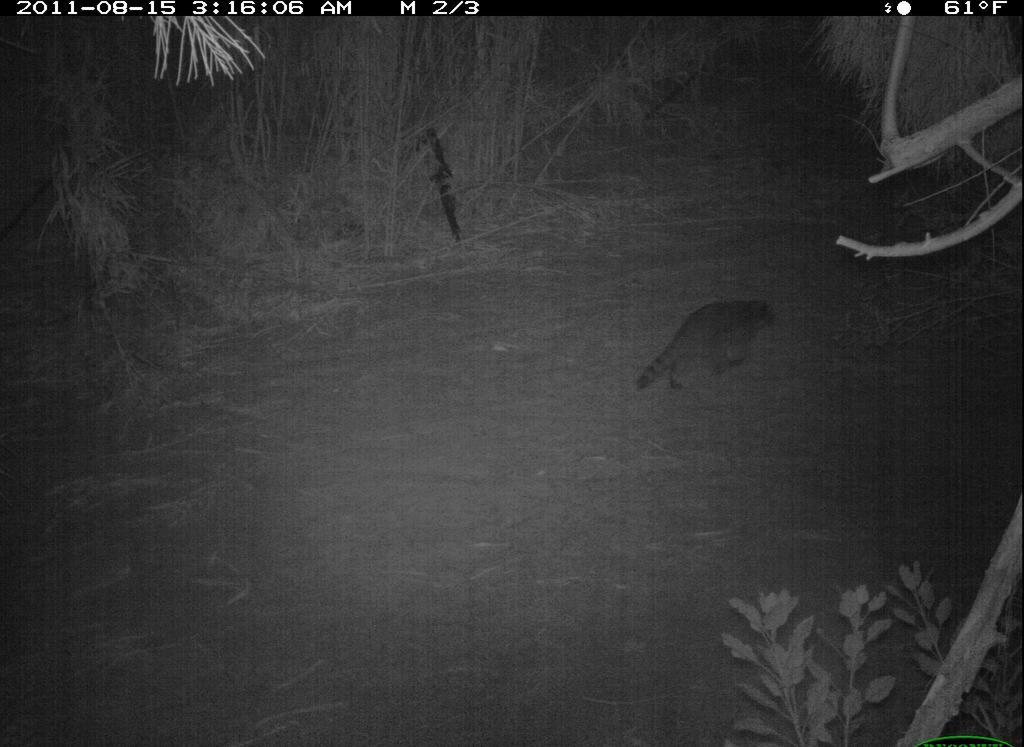raccoon: (629, 289, 784, 401)
